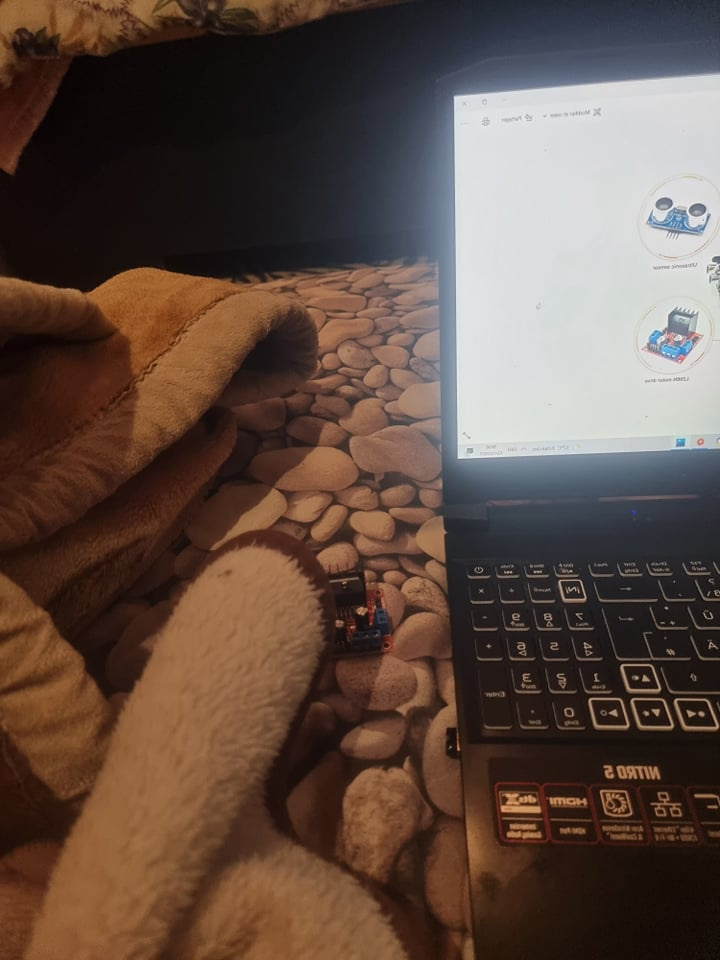MOTOR: (317, 561, 397, 656), (640, 309, 704, 364)
SENSOR: (645, 195, 711, 236)
